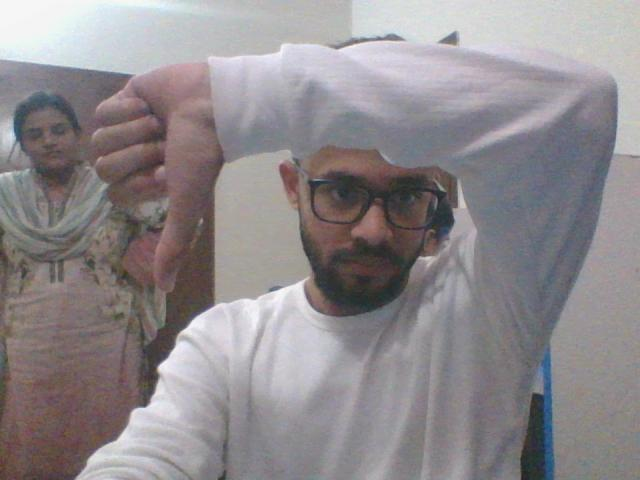thumbs-down: (92, 59, 229, 294)
